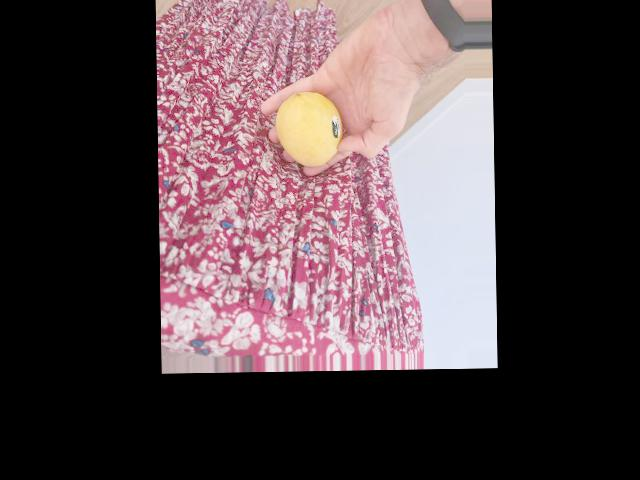lemon: (278, 93, 344, 167)
